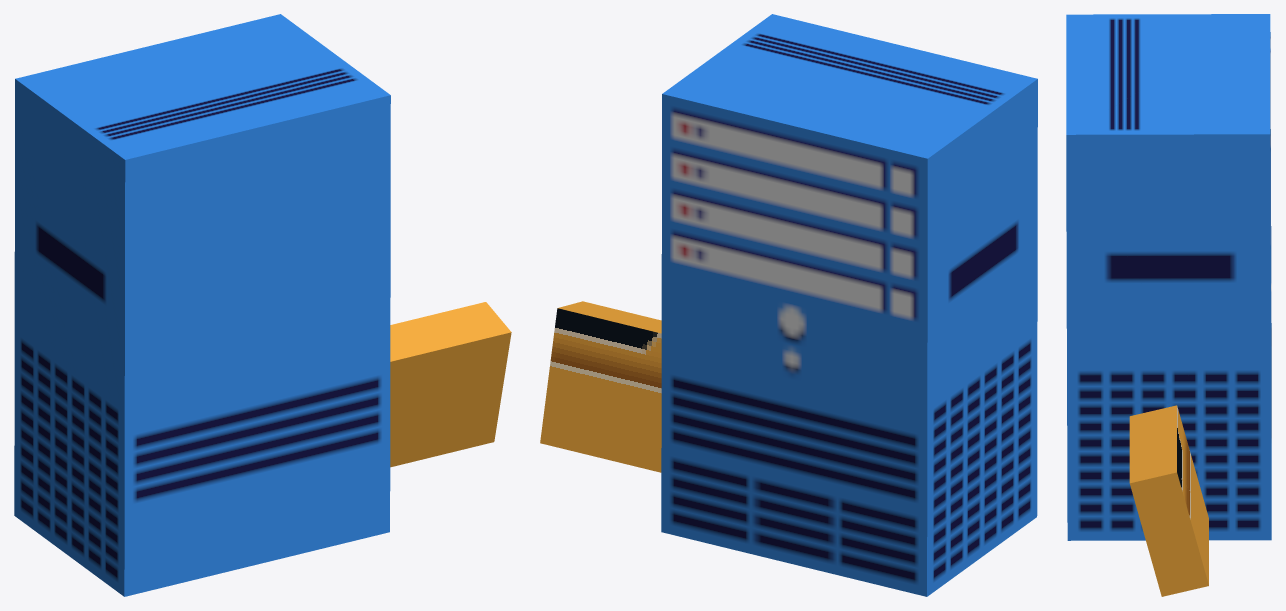
File: fuwuqi2.obj
3 views of the same model, side by side, from view 1: azimuth 30°, elevation 25°; view 2: azimuth 150°, elevation 25°; view 3: azimuth 270°, elevation 25° (orthographic). The views are drawn at different scales.
Visible parts, largest first — view 1: 立方体.2; view 2: 立方体.2; view 3: 立方体.2.
Part boxes in pixels (x1,y1,x2,y2): 立方体.2: (14,14,511,596); 立方体.2: (540,14,1037,596); 立方体.2: (1066,14,1271,596).
Size of the model in its own units: 69.65 by 69.32 by 31.78.
